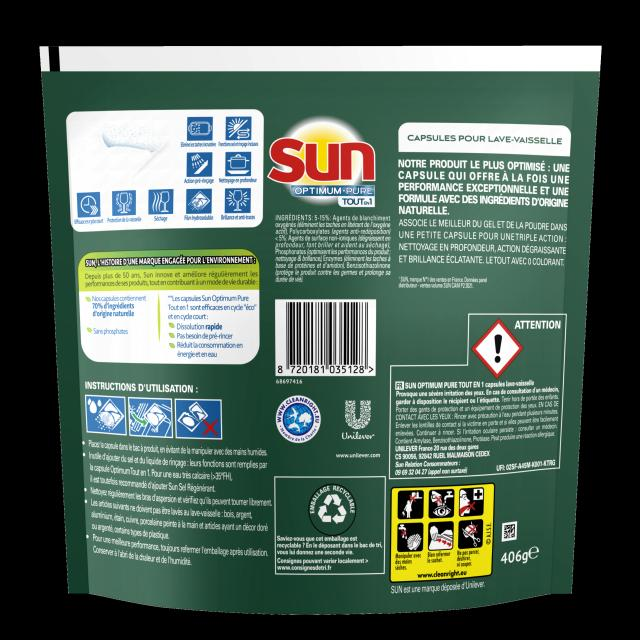GHS_Symbol_EXCLAMATION_MARK: (472, 316, 524, 379)
